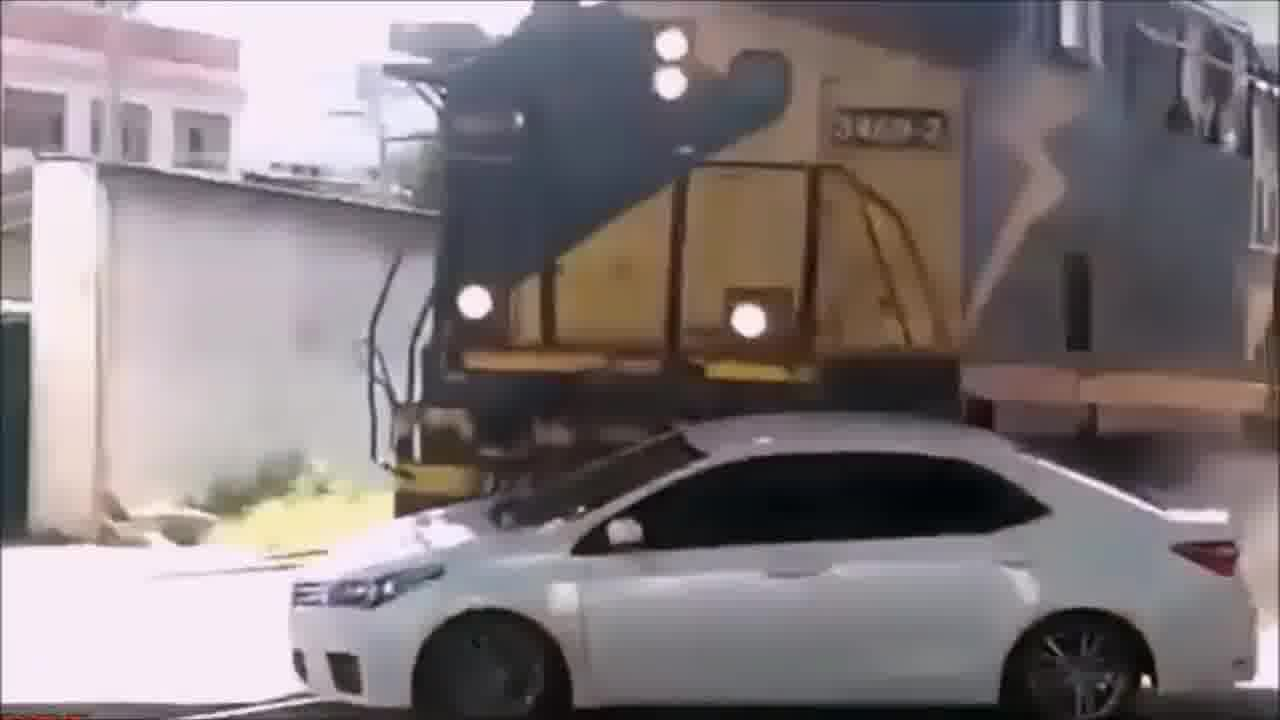crossing railway track: (245, 398, 1271, 705)
